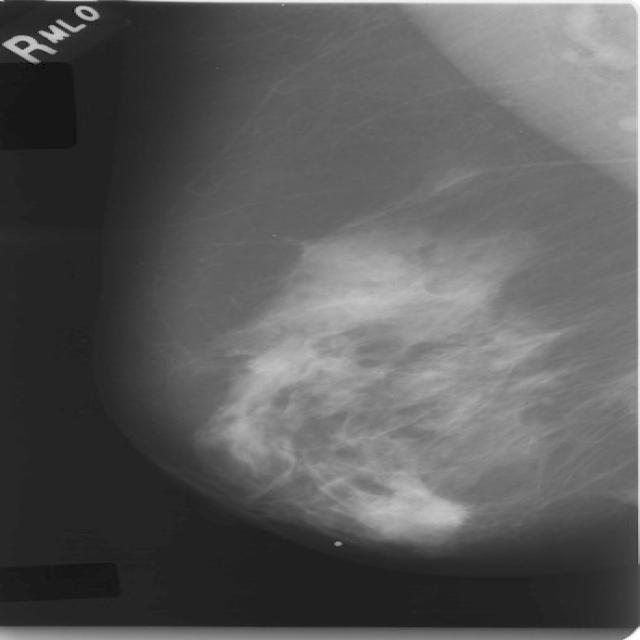tumour: (350, 480, 466, 546)
